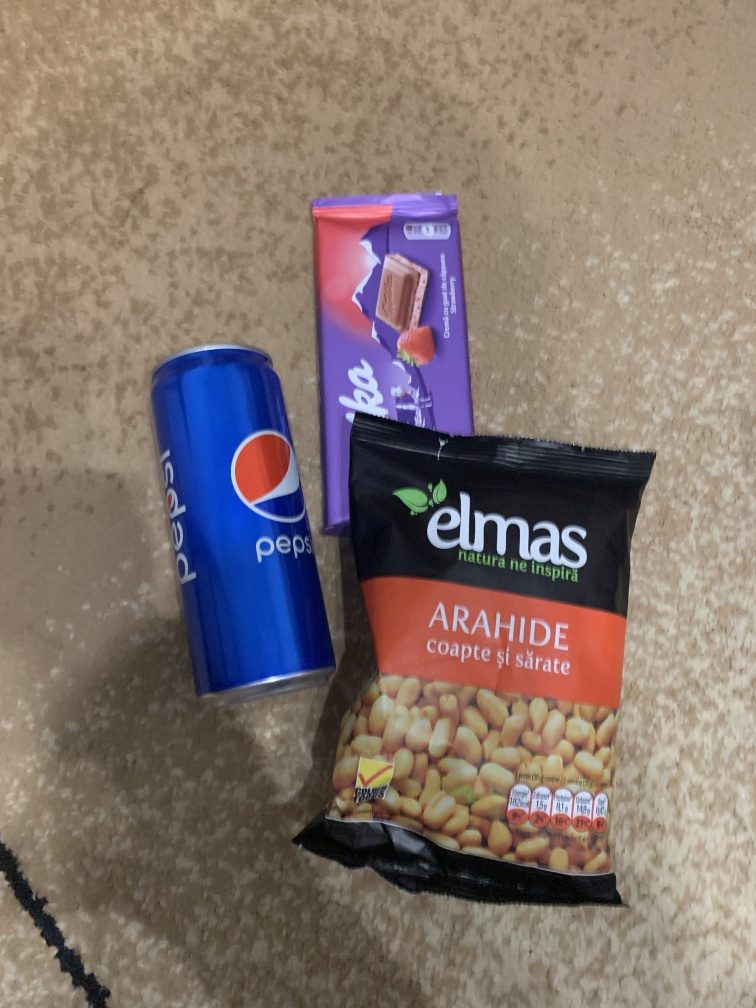milka: (305, 188, 484, 535)
peanuts: (291, 417, 659, 918)
pepsi: (147, 341, 343, 700)
